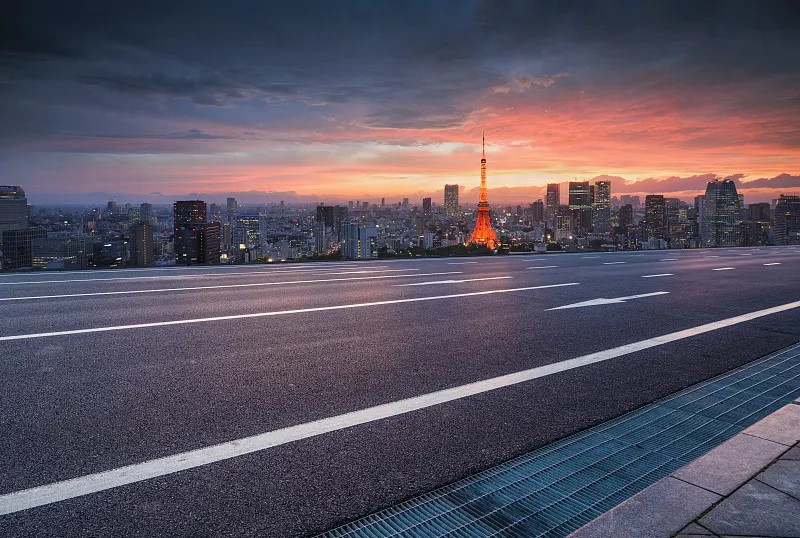Tokyo: (463, 128, 501, 249)
